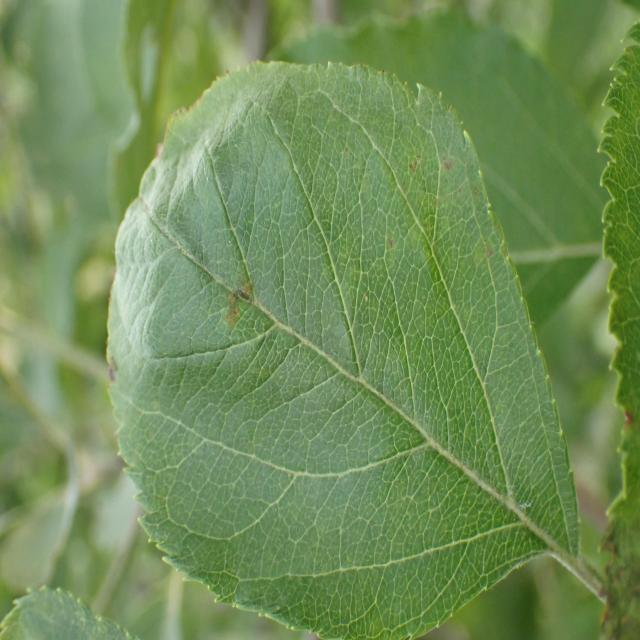scab: (114, 100, 517, 546)
